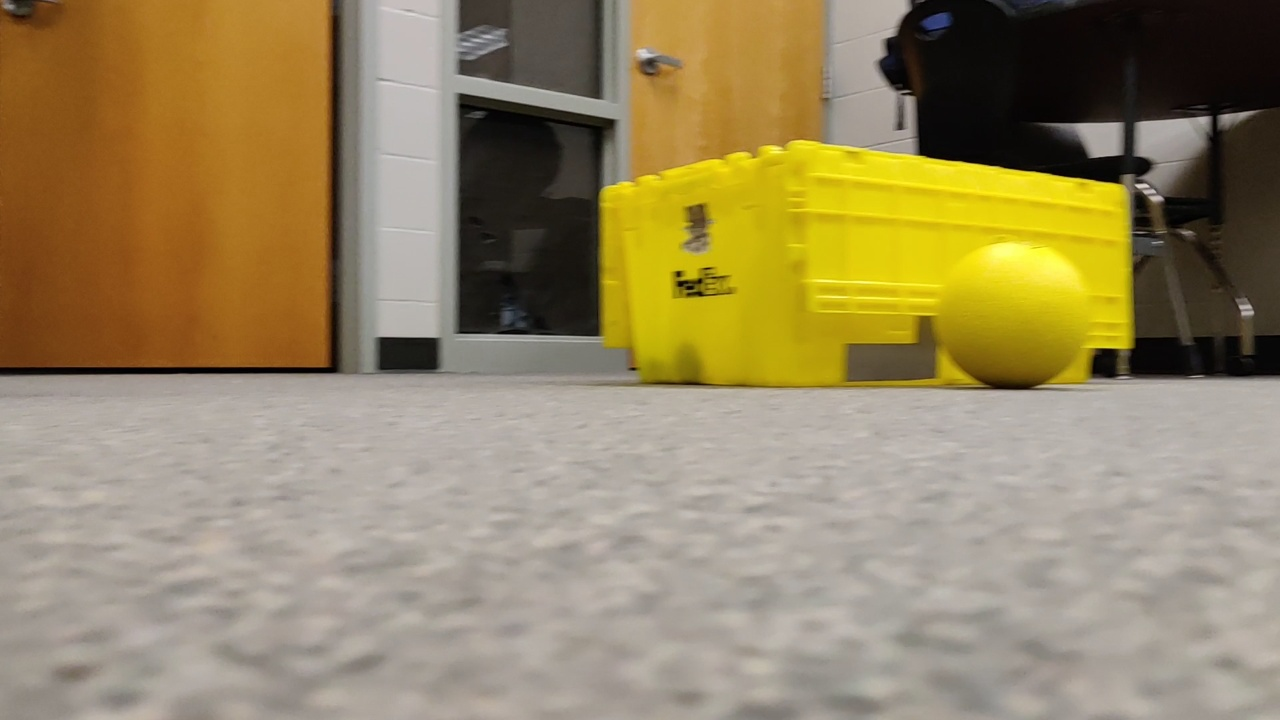Ball: (928, 227, 1092, 397)
